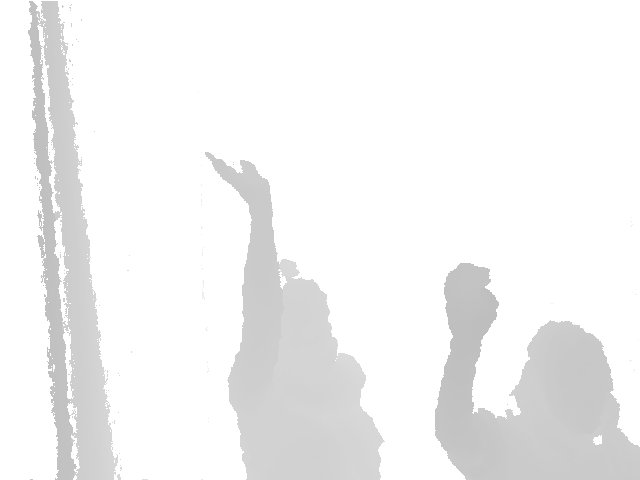hand: (200, 148, 279, 220), (440, 263, 503, 343)
head: (509, 317, 620, 438), (274, 259, 338, 361)
person: (197, 146, 386, 480), (434, 262, 640, 480)
